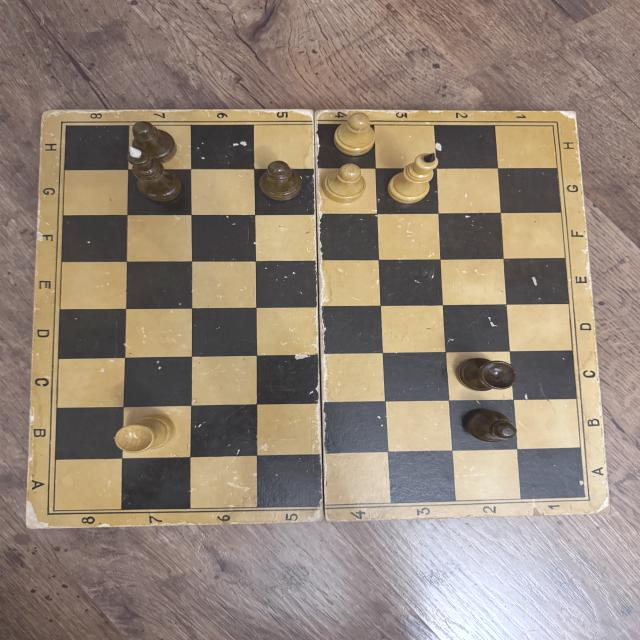black-king: (123, 146, 181, 200)
black-pawn: (128, 121, 178, 164), (463, 406, 518, 444), (259, 159, 306, 203)
black-rook: (454, 355, 518, 393)
white-king: (387, 152, 438, 204)
white-pawn: (333, 113, 378, 156), (321, 164, 369, 202)
white-rook: (115, 415, 176, 454)
